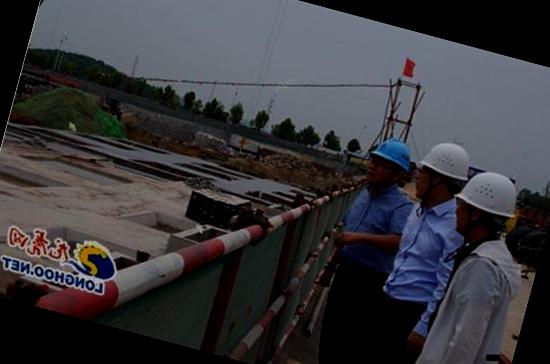helmet: (450, 168, 528, 224), (414, 136, 470, 182), (366, 134, 420, 173)
no_vest: (412, 229, 518, 364), (382, 190, 461, 312), (334, 176, 400, 273)
person: (342, 128, 477, 364), (291, 125, 418, 364), (398, 165, 542, 364)
